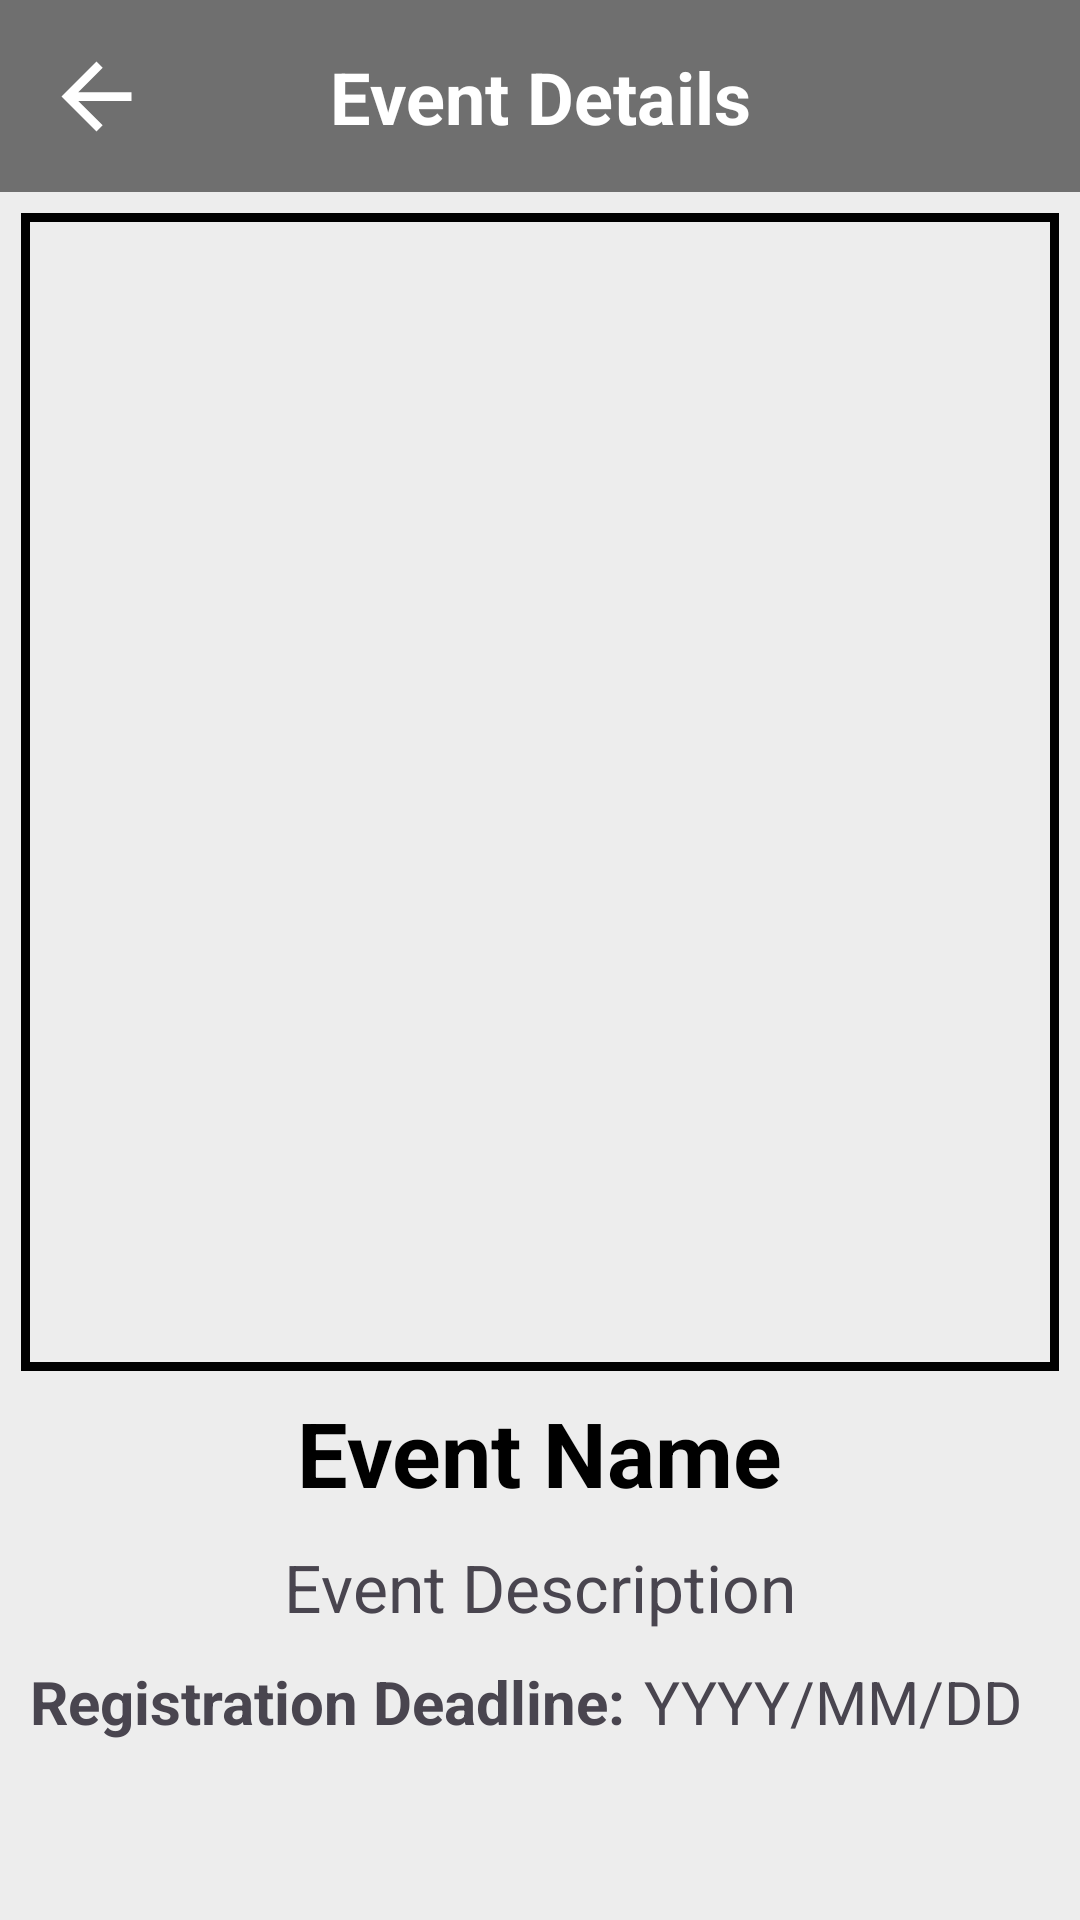

Named icons in this screenshot (1080px×1920px) and their centers, (x,y):
Go Back: (96,96)
